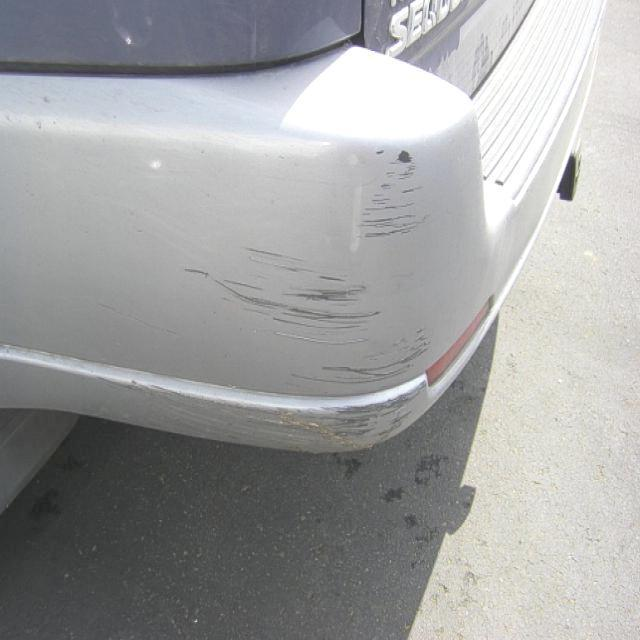minor: (317, 353, 426, 381)
moderate: (185, 250, 384, 345), (204, 397, 404, 436), (364, 150, 434, 242)
